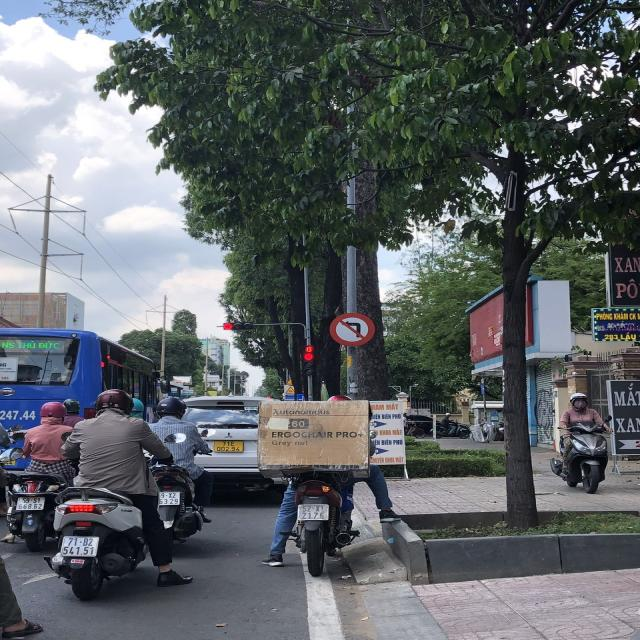Bien bao cam re trai: (326, 308, 379, 348)
